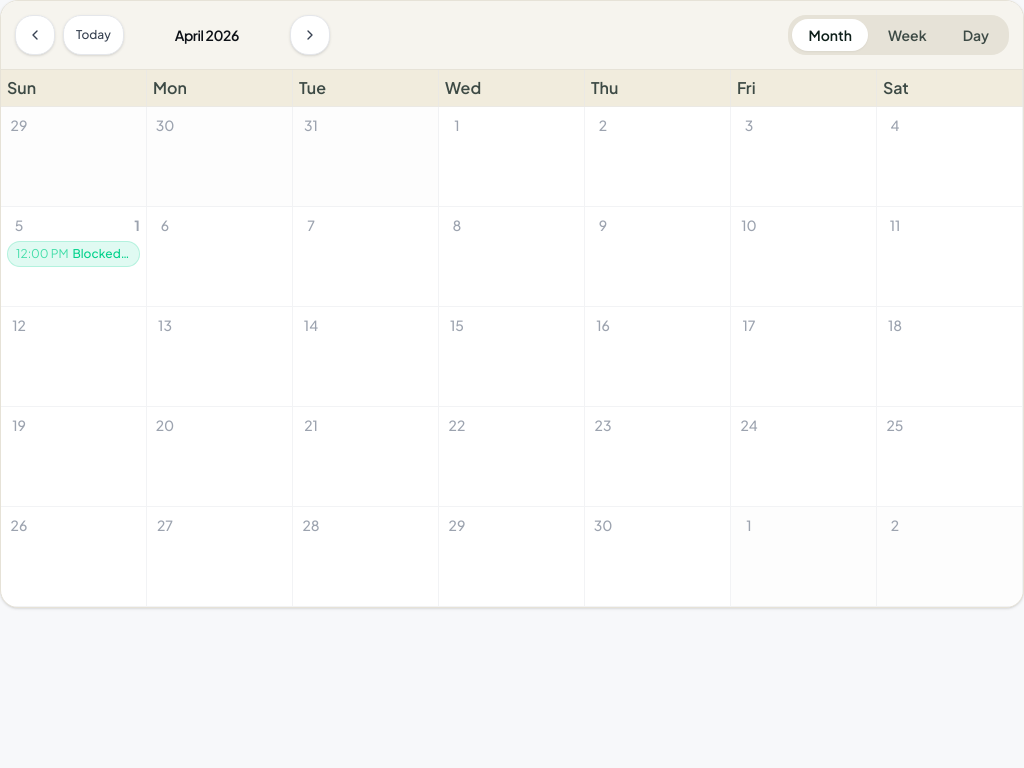
Scenario: ScheduleCalendar › shows the backend error instead of a false success when rescheduling fails
Click the button "day".
click(976, 35)  # box [947,19,1005,51]
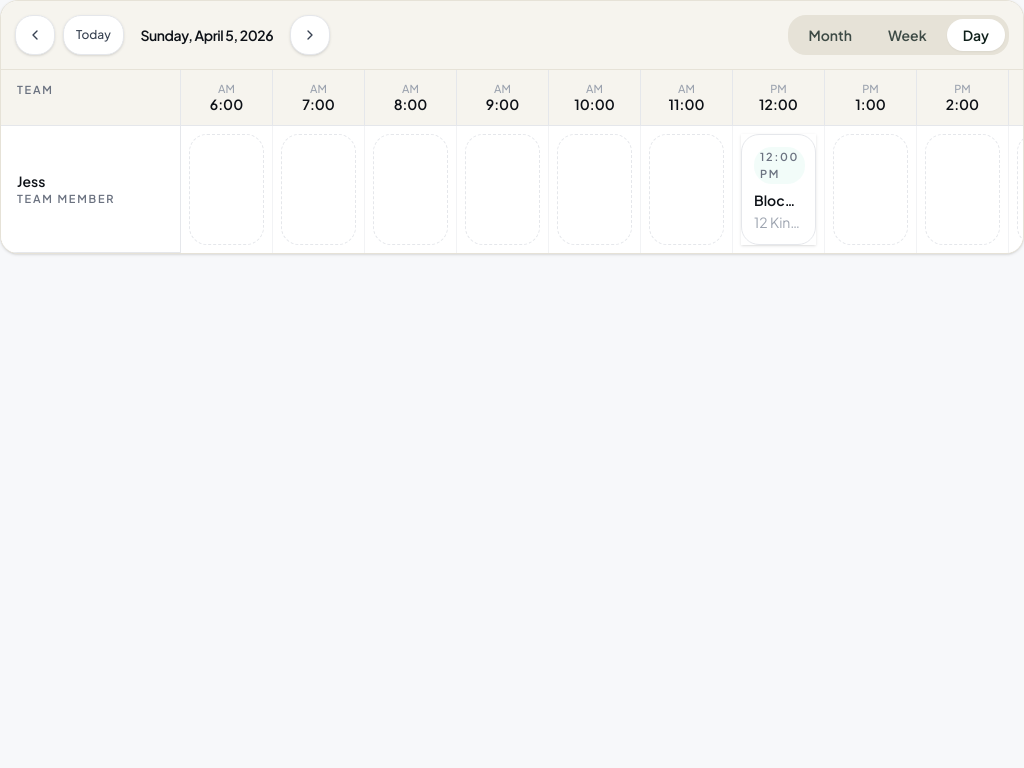
Now the text "Blocked drain" is shown, box [754,191,810,229]
